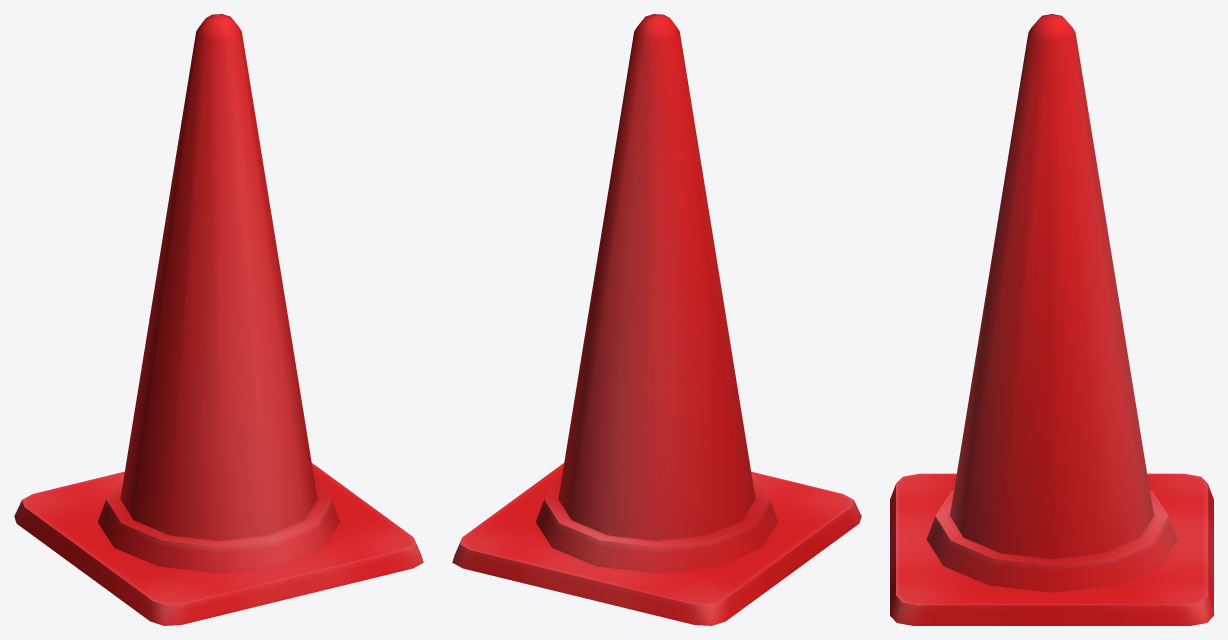
The model's file is jsf_RoadCones.fbx.
The picture shows the model from 3 angles, left to right: view 1: azimuth 30°, elevation 25°; view 2: azimuth 150°, elevation 25°; view 3: azimuth 270°, elevation 25°; orthographic projection. The views are drawn at different scales.
Visible parts, largest first — view 1: jsf_RoadCones; view 2: jsf_RoadCones; view 3: jsf_RoadCones.
Part boxes in pixels (x1,y1,x2,y2): jsf_RoadCones: [14, 14, 423, 625]; jsf_RoadCones: [452, 14, 861, 625]; jsf_RoadCones: [890, 14, 1213, 625].
Size of the model in its own units: 37.65 by 69.48 by 37.65.
